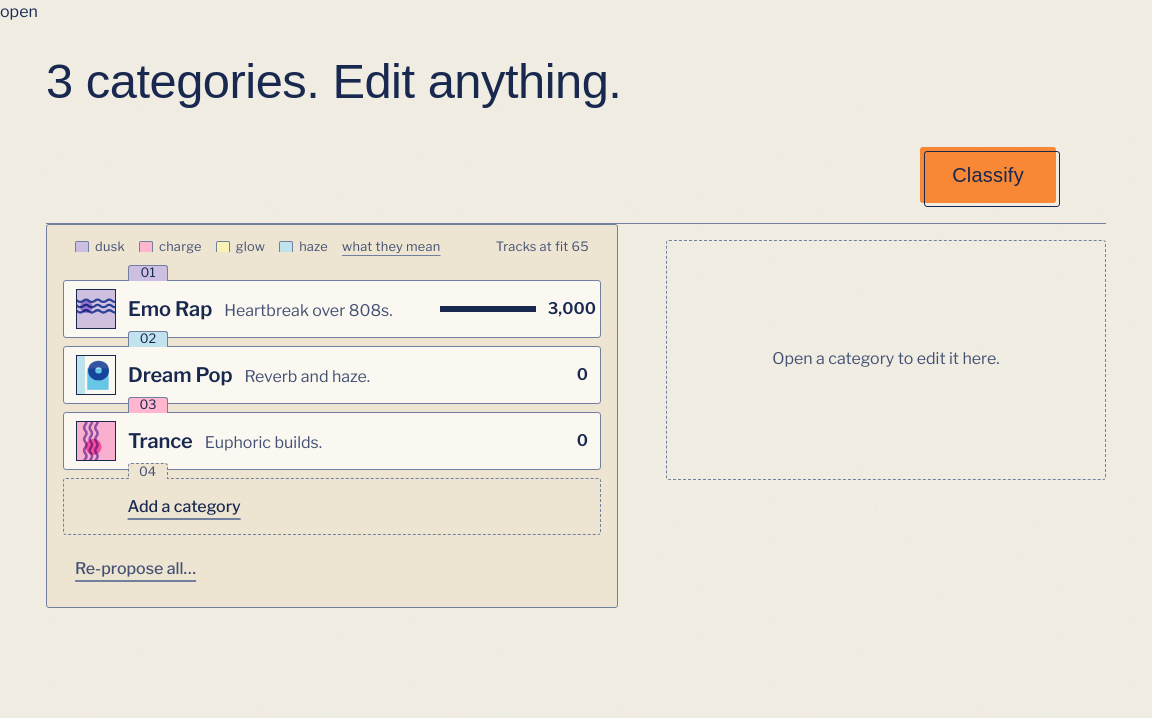
Test case: /review with saved categories › blocks Classify while two categories share a name, and says why
This screenshot has width=1152, height=718.
Click the button "Trance Euphoric builds. 0" at coordinates (96, 441), box top-left (64, 413), bottom-right (600, 469)
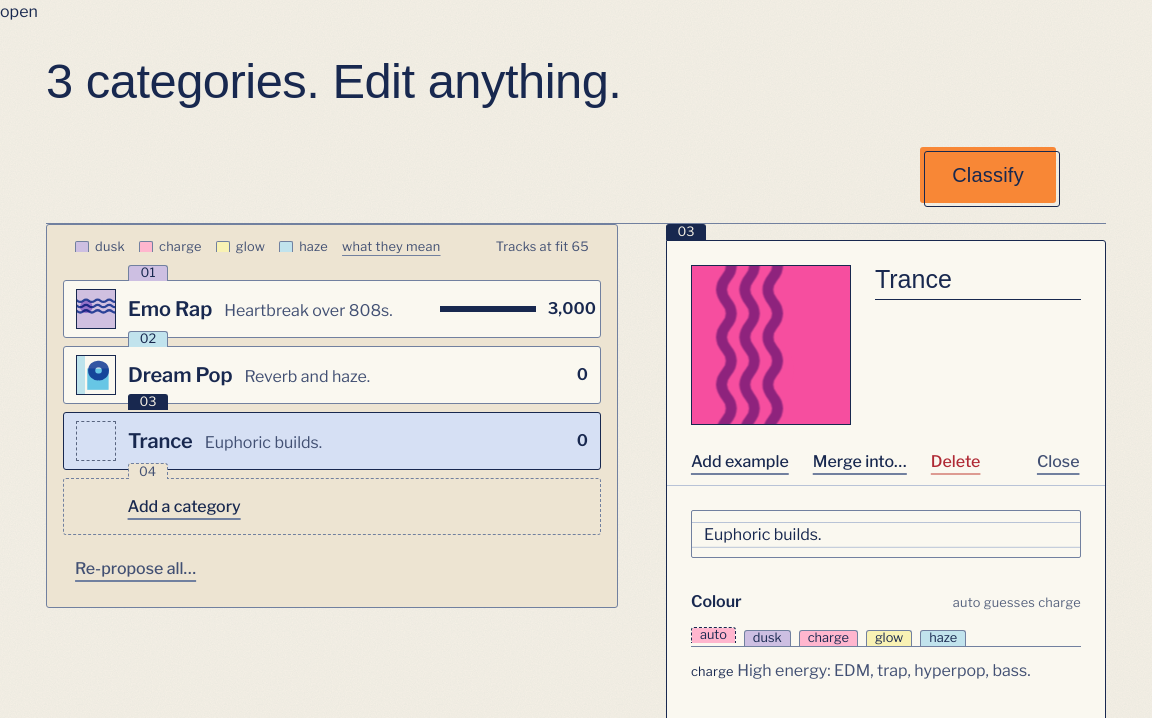
Replace the text in the text box named "Category name" with "dream pop" at coordinates (978, 282), box top-left (875, 265), bottom-right (1081, 300)
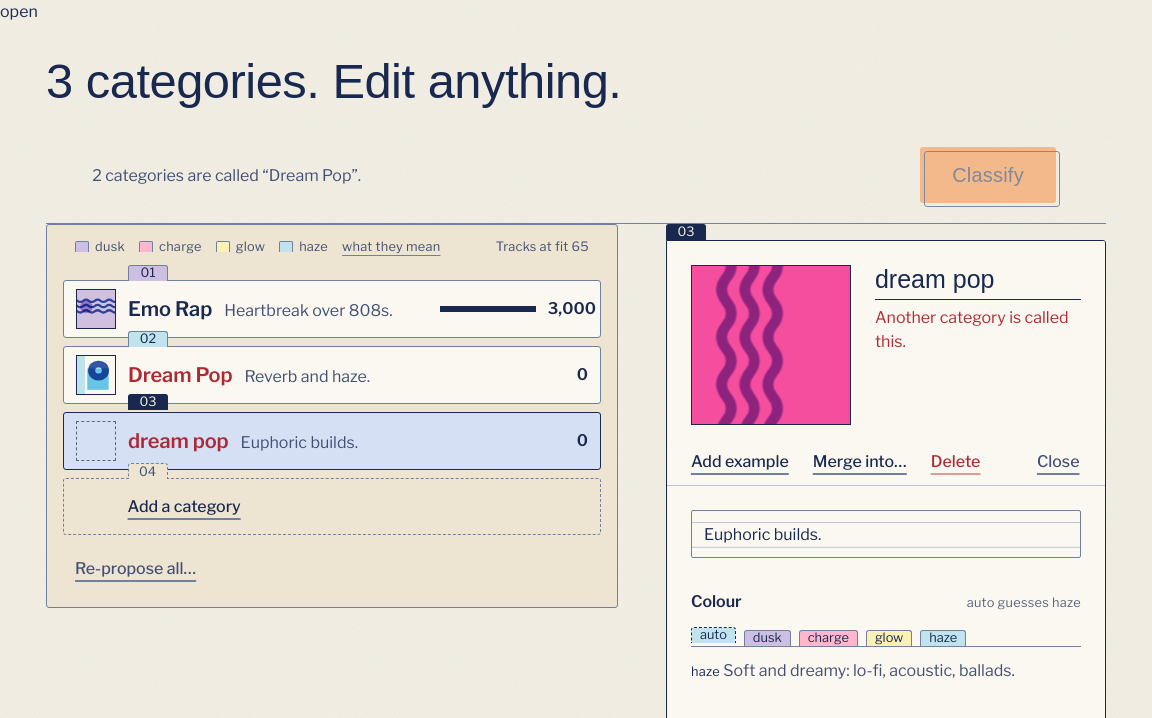
expect the button "Classify" is disabled: met, box top-left (920, 147), bottom-right (1056, 203)
expect the message "Another category is called this." is shown: met, box top-left (875, 306), bottom-right (1081, 355)
expect the text "2 categories are called “Dream Pop”." is shown: met, box top-left (92, 166), bottom-right (361, 185)
